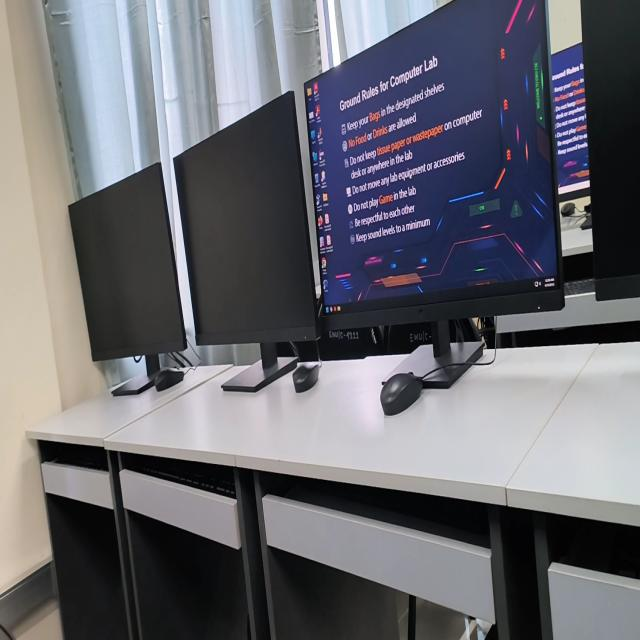Monitor: (305, 0, 564, 329), (174, 91, 319, 344), (69, 163, 187, 360), (581, 0, 640, 300), (552, 41, 589, 199)
Mouse: (380, 373, 422, 415), (292, 363, 321, 392), (155, 367, 185, 392), (561, 202, 576, 216)
